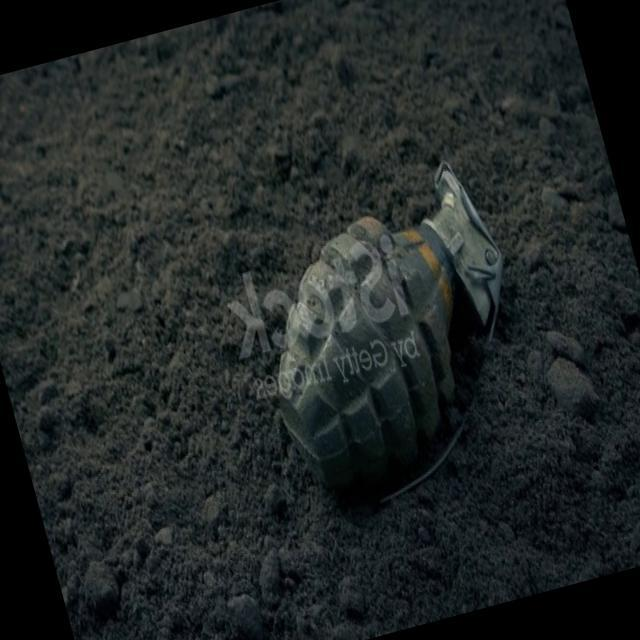grenade: (233, 157, 550, 502)
